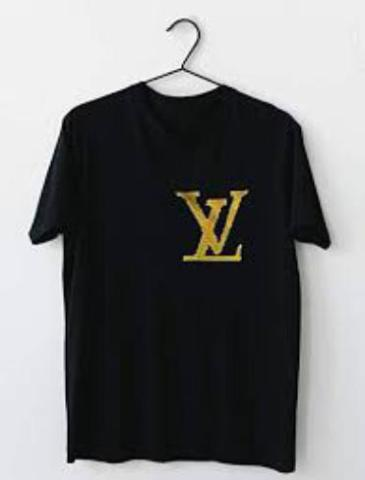LOUIS-VUITTON: (163, 187, 250, 272)
